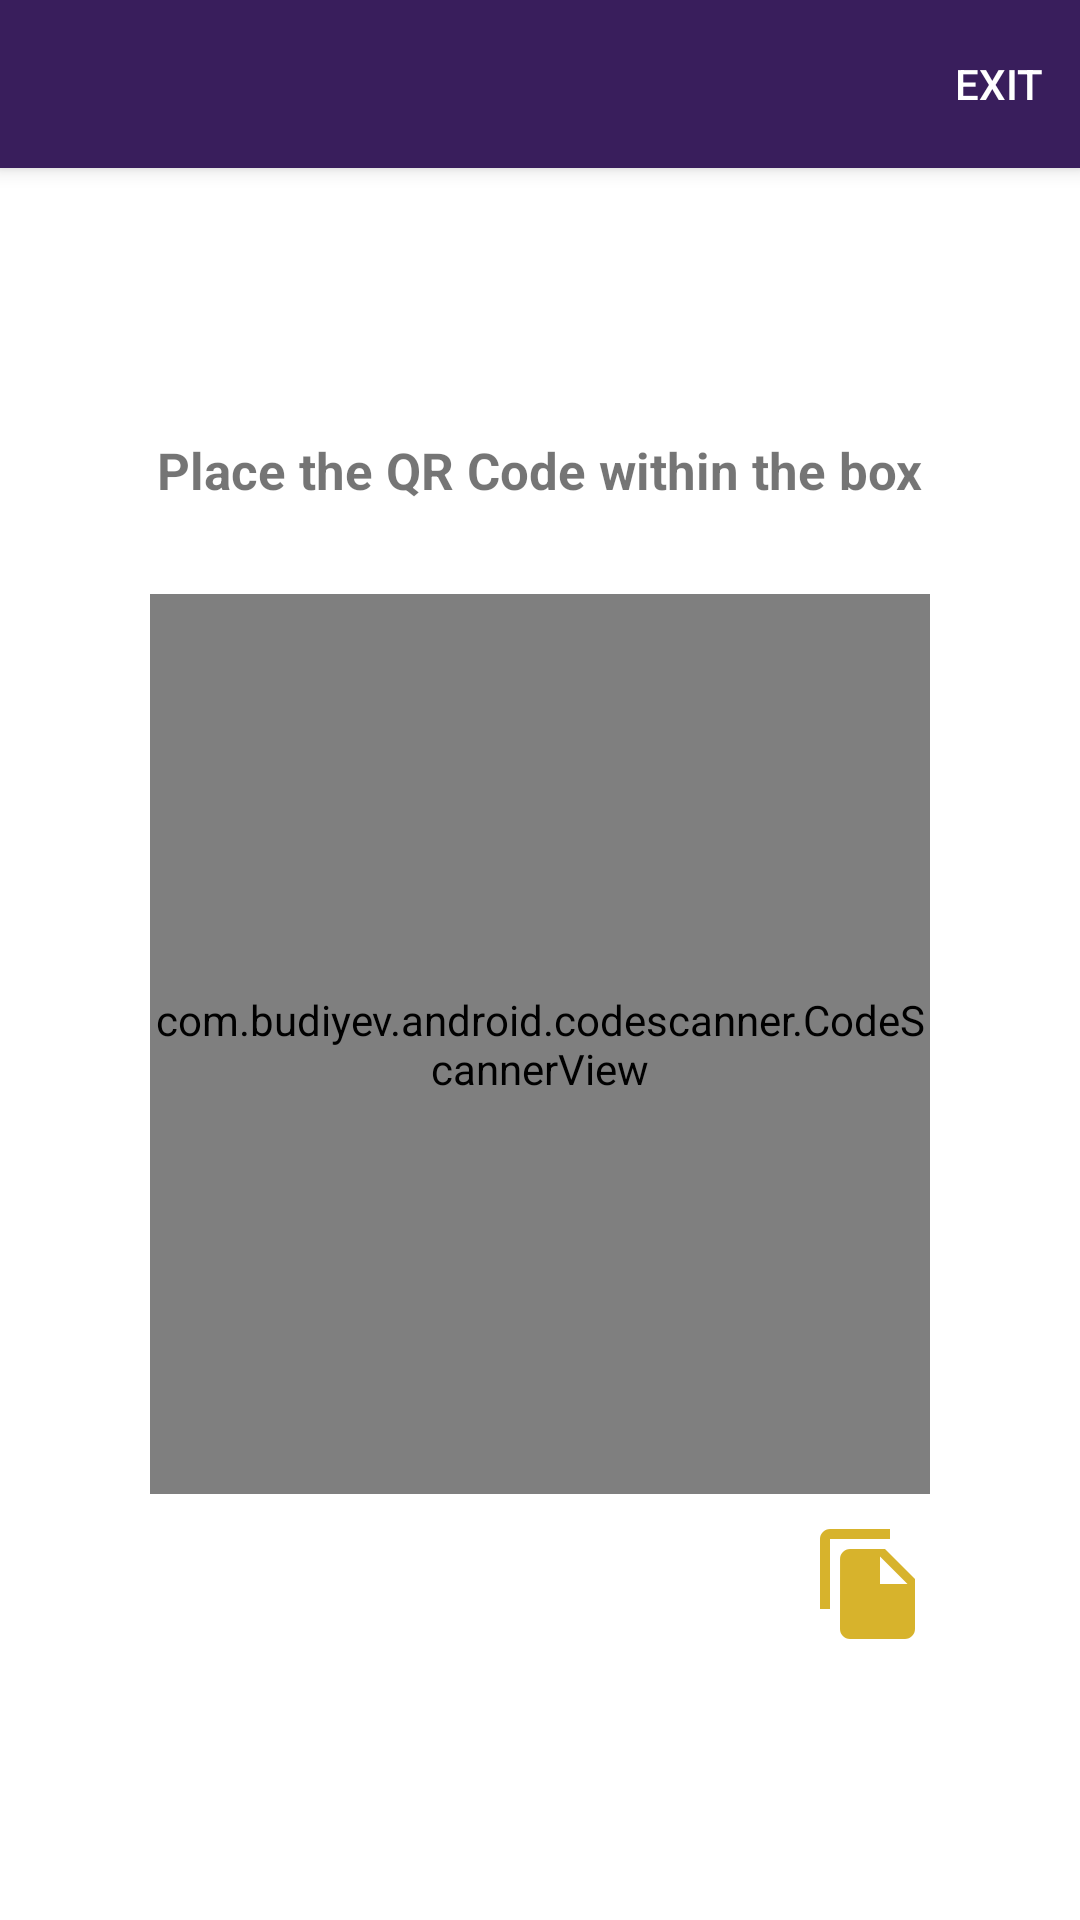

Screen size 1080*1920. Icon name, then its center in pixels as (x=x, y=y):
file: (x=867, y=1584)
